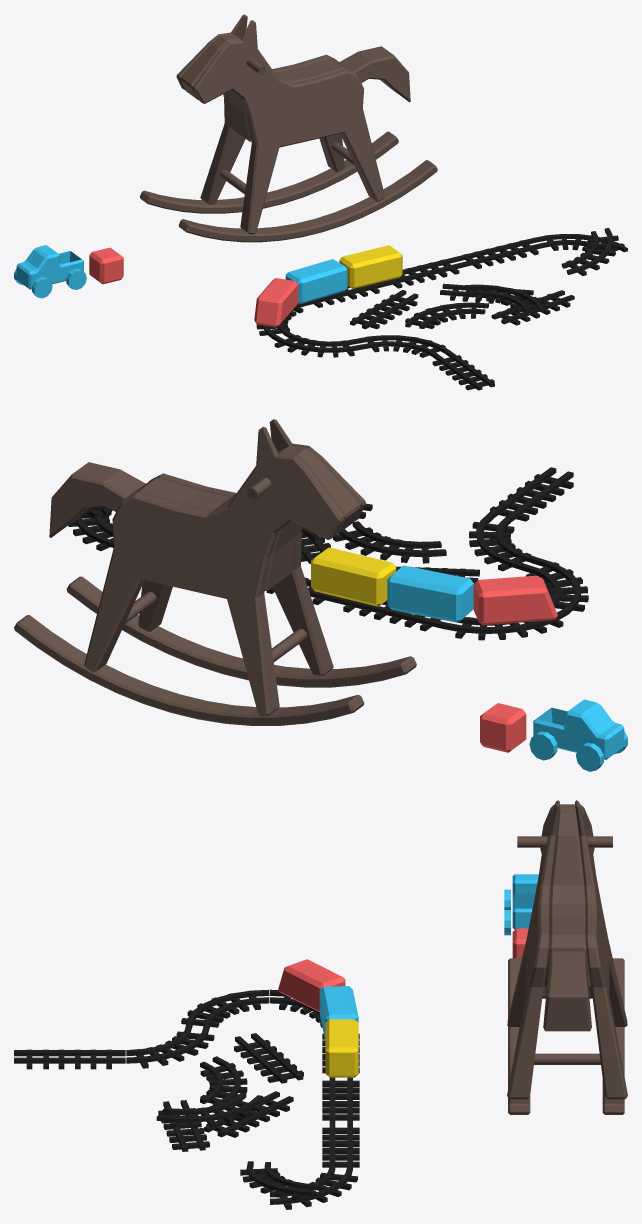
Rendered from toys_items.FBX.
3 renders of one model, top to bottom at view 1: azimuth 30°, elevation 25°; view 2: azimuth 150°, elevation 25°; view 3: azimuth 270°, elevation 25°, orthographic. The views are drawn at different scales.
Visible parts, largest first — view 1: toy_horse, railway, toy_truck, toy_qube; view 2: toy_horse, railway, toy_truck, toy_qube; view 3: railway, toy_horse, toy_truck.
Boxes of the visible parts, left/top/right/bottom form: toy_horse: left=139, top=14, right=437, bottom=242; railway: left=254, top=228, right=627, bottom=390; toy_truck: left=14, top=245, right=86, bottom=298; toy_qube: left=89, top=247, right=123, bottom=284; toy_horse: left=14, top=419, right=416, bottom=725; railway: left=68, top=467, right=588, bottom=640; toy_truck: left=529, top=699, right=627, bottom=771; toy_qube: left=480, top=703, right=526, bottom=752; railway: left=14, top=959, right=359, bottom=1209; toy_horse: left=507, top=800, right=627, bottom=1114; toy_truck: left=504, top=874, right=538, bottom=935.
Size of the model in its own units: 20.77 by 18.09 by 8.34.
